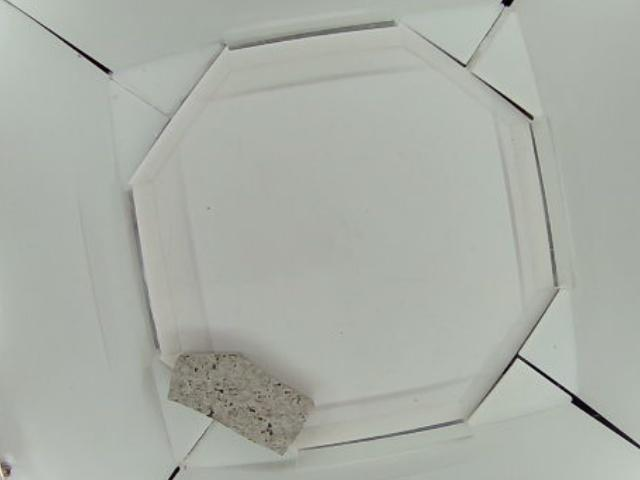China: (165, 350, 314, 455)
